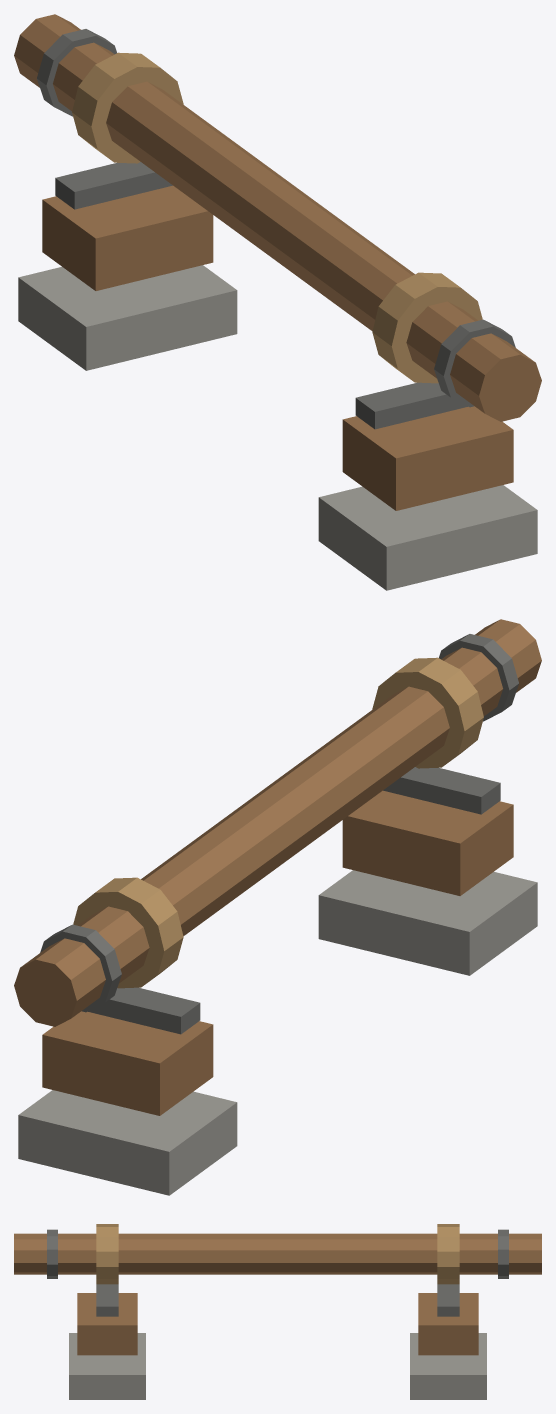
Rendered from vf_shaft_2m.glb.
The picture shows the model from 3 angles, top to bottom: view 1: azimuth 30°, elevation 25°; view 2: azimuth 150°, elevation 25°; view 3: azimuth 270°, elevation 25°; orthographic projection. The views are drawn at different scales.
Parts seen in each view (by area): view 1: Rotor_Oak, Static_Stone, Static_Oak, Static_Bronze, Static_Iron, Rotor_Iron; view 2: Rotor_Oak, Static_Stone, Static_Oak, Static_Bronze, Static_Iron, Rotor_Iron; view 3: Rotor_Oak, Static_Stone, Static_Oak, Static_Bronze, Static_Iron, Rotor_Iron.
Part boxes in pixels (x1,y1,x2,y2): Rotor_Oak: (14, 14, 541, 421); Static_Stone: (18, 265, 537, 590); Static_Oak: (42, 185, 513, 510); Static_Bronze: (72, 52, 482, 383); Static_Iron: (55, 162, 467, 429); Rotor_Iron: (37, 29, 515, 407); Rotor_Oak: (14, 619, 541, 1026); Static_Stone: (18, 870, 537, 1195); Static_Oak: (42, 790, 513, 1115); Static_Bronze: (73, 657, 483, 988); Static_Iron: (88, 767, 500, 1034); Rotor_Iron: (40, 634, 518, 1012); Rotor_Oak: (14, 1233, 541, 1274); Static_Stone: (69, 1333, 486, 1399); Static_Oak: (77, 1293, 478, 1355); Static_Bronze: (96, 1224, 459, 1284); Static_Iron: (96, 1284, 459, 1316); Rotor_Iron: (47, 1229, 508, 1278).
Size of the model in its own units: 0.36 by 0.61 by 1.92.
